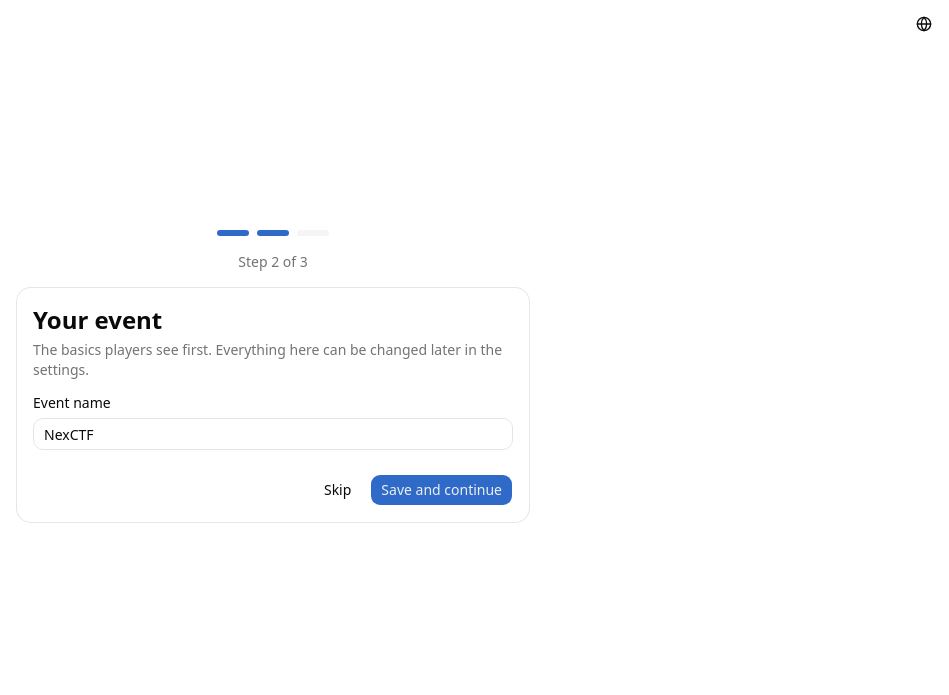
it: saves only the event settings that changed
The image size is (949, 695).
expect the text "Event name" is shown: met, box [33, 393, 111, 412]
Replace the text in the field showing "NexCTF" with "Spring CTF": [273, 434] box [33, 418, 513, 450]
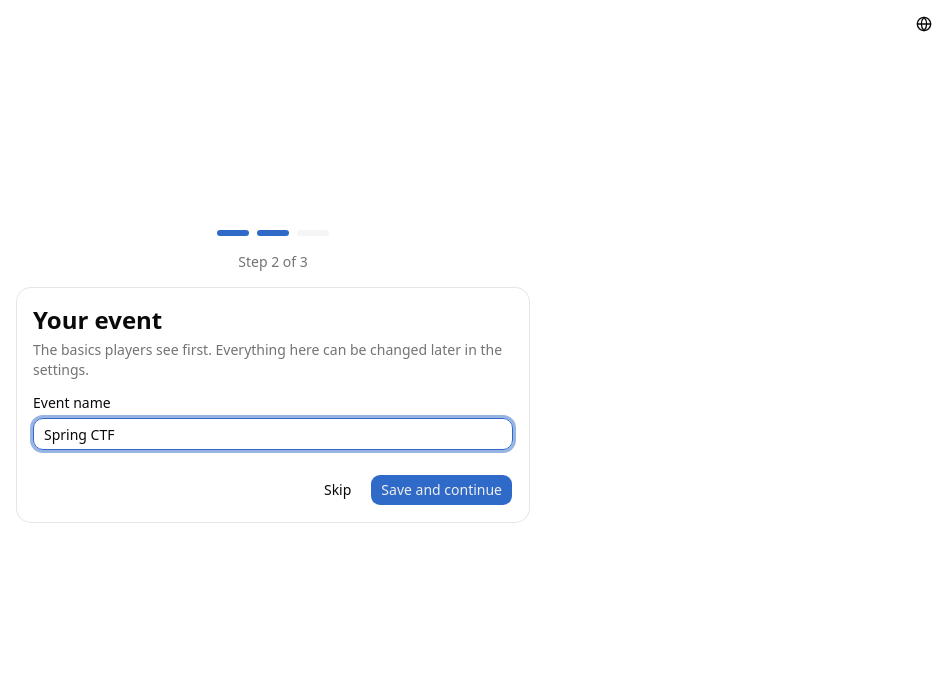
Click the button "Save and continue": [442, 490] box [370, 474, 513, 506]
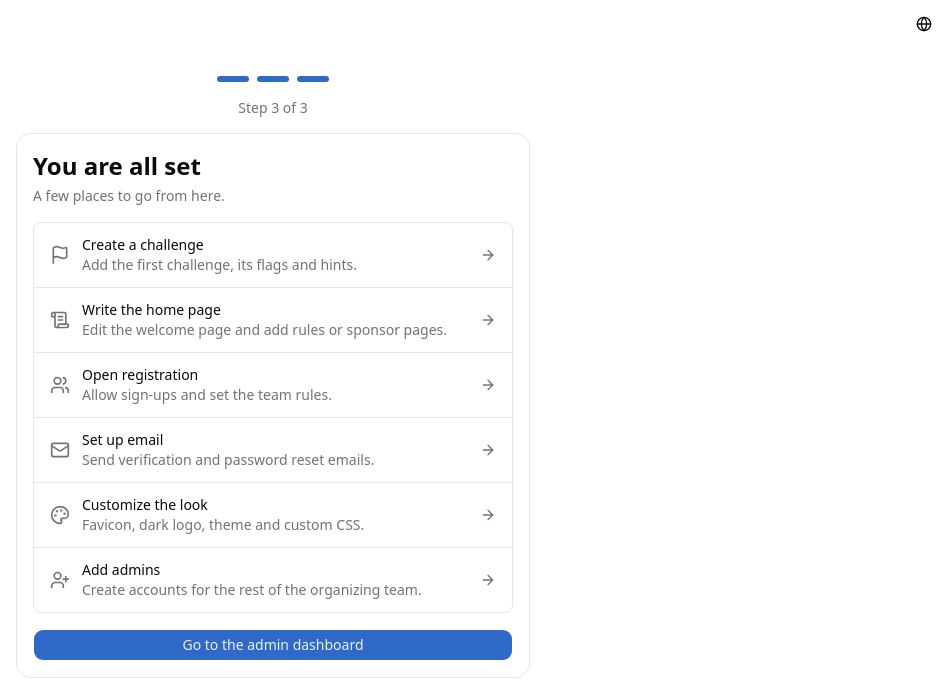
expect the text "You are all set" is shown: met, box [33, 148, 201, 182]
